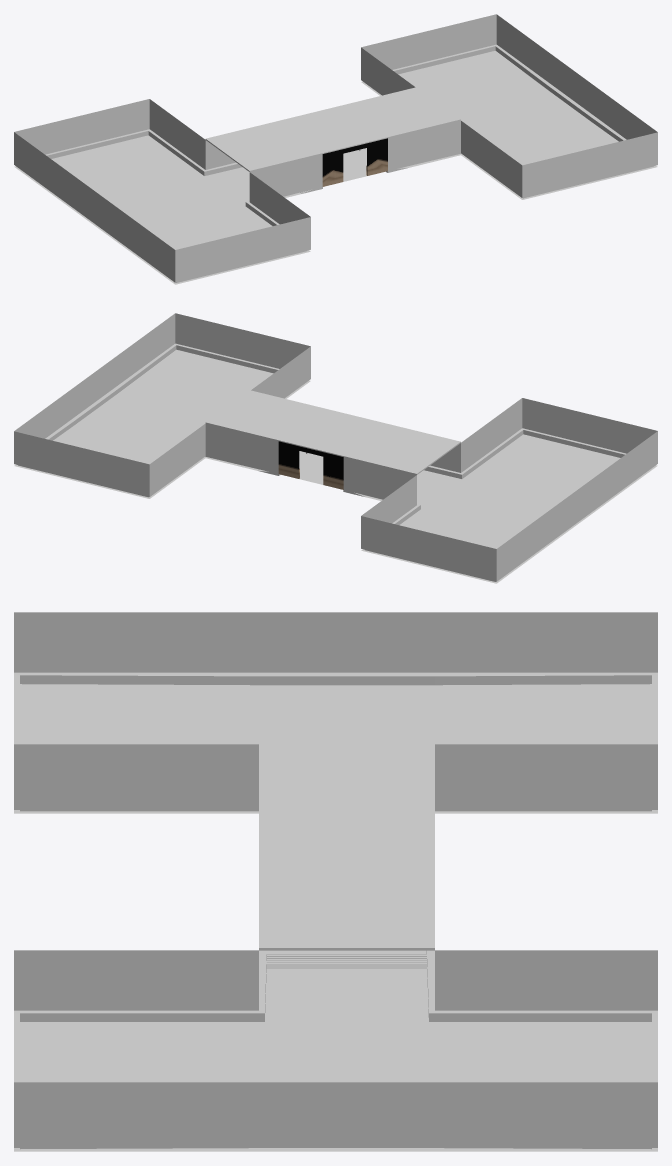
File: Room_05.fbx
3 views of the same model, one above another, from view 1: azimuth 30°, elevation 25°; view 2: azimuth 150°, elevation 25°; view 3: azimuth 270°, elevation 25° (orthographic). The views are drawn at different scales.
Parts seen in each view (by area): view 1: Plane.004, Plane.005, Plane.003, Plane.001, Plane.002, Plane.006; view 2: Plane.004, Plane.005, Plane.003, Plane.001, Plane.002, Plane.006; view 3: Plane.004, Plane.005, Plane.001, Plane.003, Plane.007.
Boxes of the visible parts, x1,y1,x2,y2 form: Plane.004: (14,14,657,282); Plane.005: (54,54,613,249); Plane.003: (205,87,460,171); Plane.001: (14,44,657,284); Plane.002: (322,138,387,186); Plane.006: (343,148,387,181); Plane.004: (14,313,657,581); Plane.005: (58,353,617,548); Plane.003: (205,390,460,474); Plane.001: (14,343,657,583); Plane.002: (278,441,343,489); Plane.006: (279,451,323,484); Plane.004: (14,612,657,1147); Plane.005: (32,689,639,1082); Plane.001: (14,672,657,1151); Plane.003: (259,742,434,950); Plane.007: (266,952,427,968).
Bounding box in the file's own units: 1288 × 91.37 × 746.
